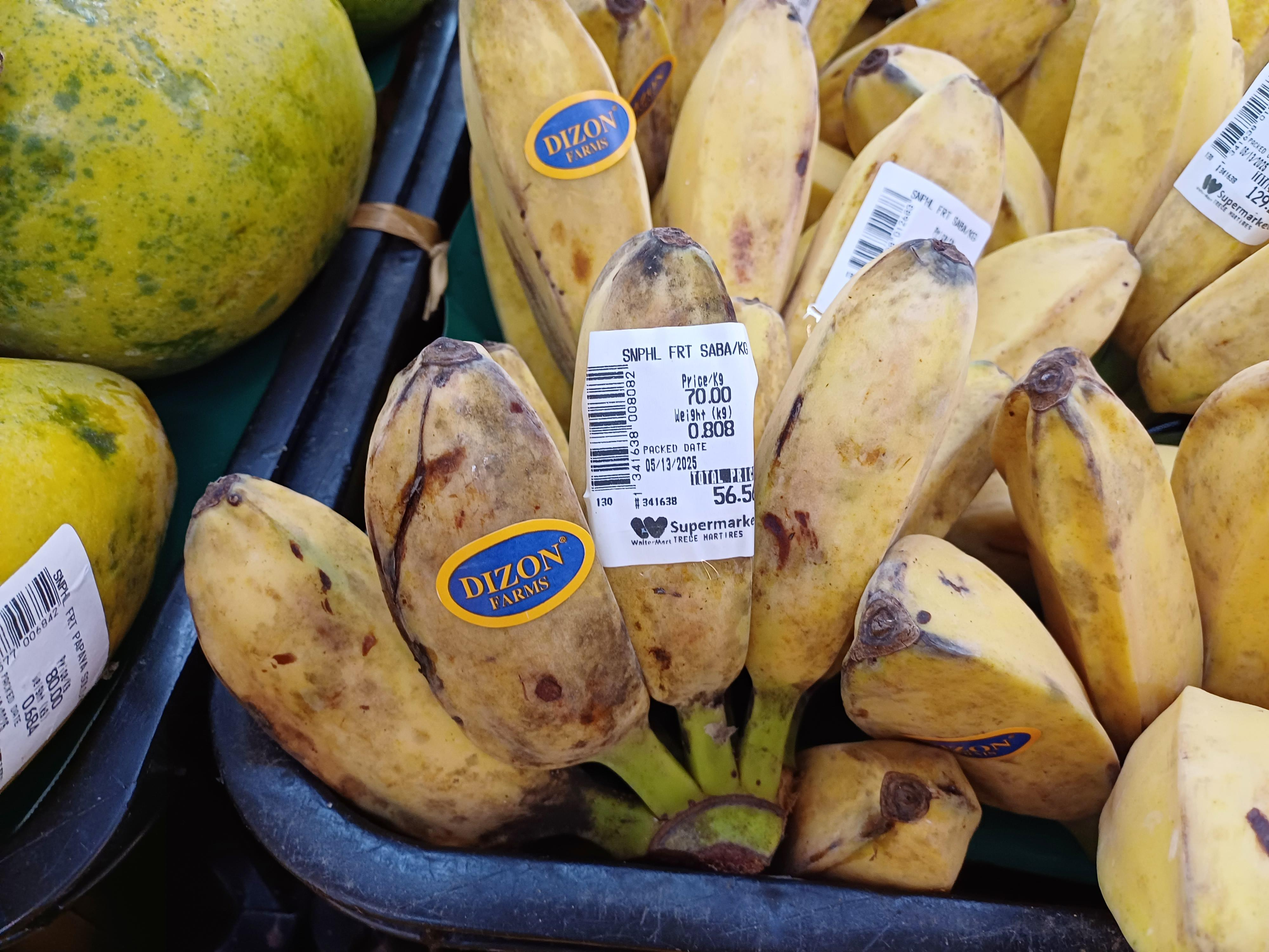ripe: (182, 225, 1019, 858), (457, 0, 1141, 447), (836, 346, 1269, 952), (1051, 0, 1269, 412)
